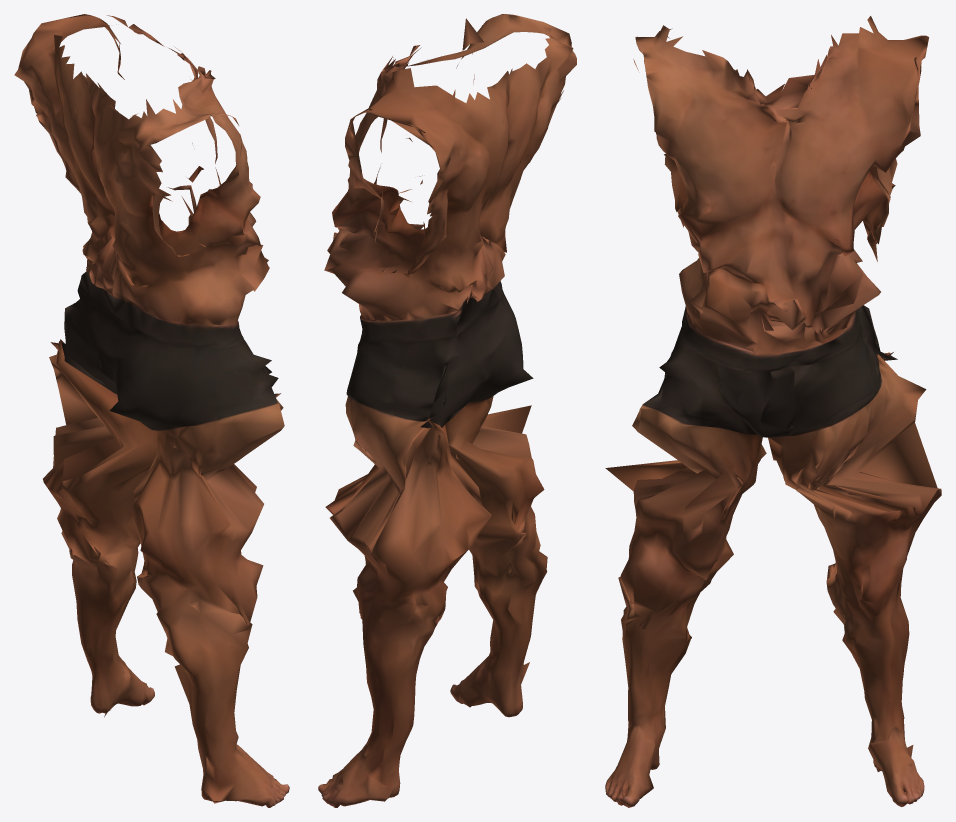
File: base_body.glb
The picture shows the model from 3 angles, left to right: view 1: azimuth 30°, elevation 25°; view 2: azimuth 150°, elevation 25°; view 3: azimuth 270°, elevation 25°; orthographic projection. The views are drawn at different scales.
Parts seen in each view (by area): view 1: base_body; view 2: base_body; view 3: base_body.
Boxes of the visible parts, bbox=[...] form: base_body: bbox=[14, 14, 289, 807]; base_body: bbox=[318, 14, 576, 807]; base_body: bbox=[605, 16, 941, 807].
Size of the model in its own units: 0.2058 by 0.8241 by 0.3355.
1 material, 1 textured.
